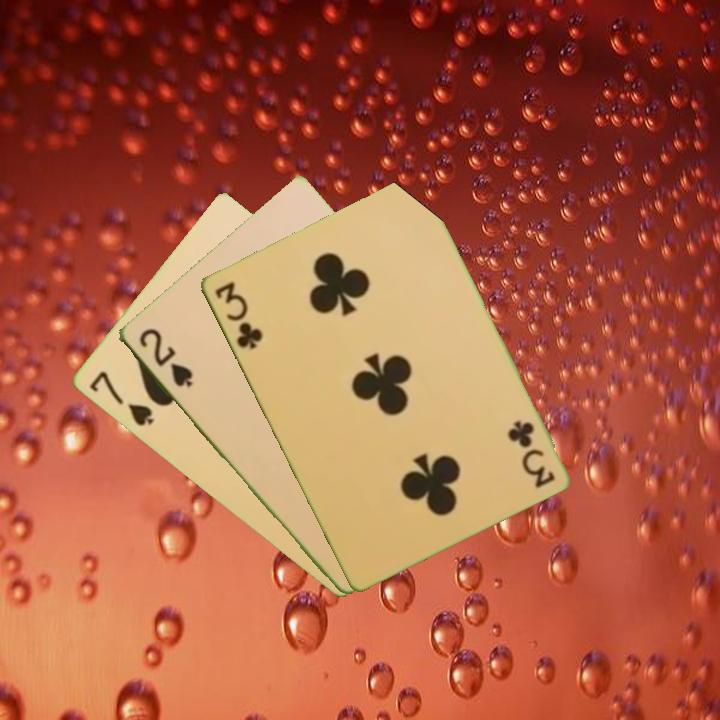2s: (134, 324, 196, 391)
3c: (210, 278, 265, 352), (505, 416, 558, 491)
7s: (85, 367, 157, 429)
